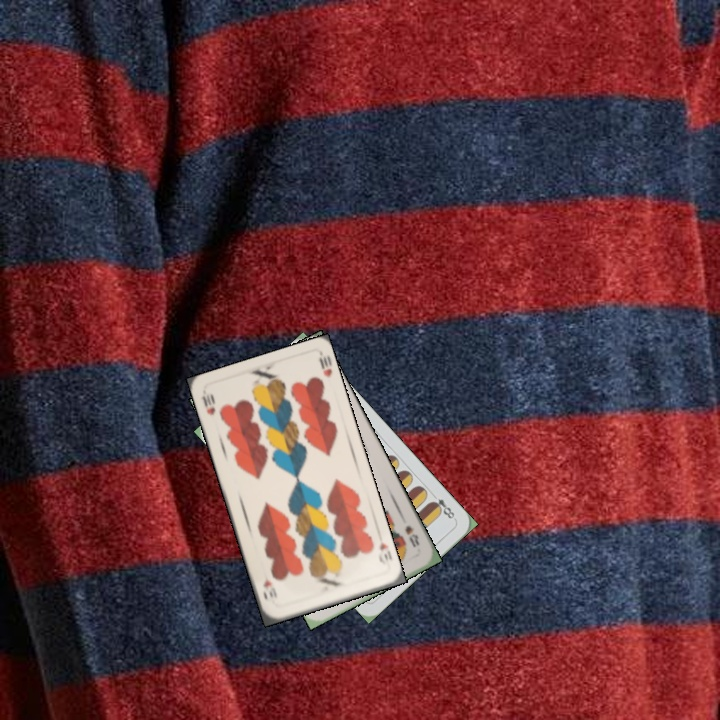E8: (427, 489, 458, 523)
H10: (374, 530, 394, 568), (198, 390, 218, 418)
S8: (401, 521, 422, 550)
